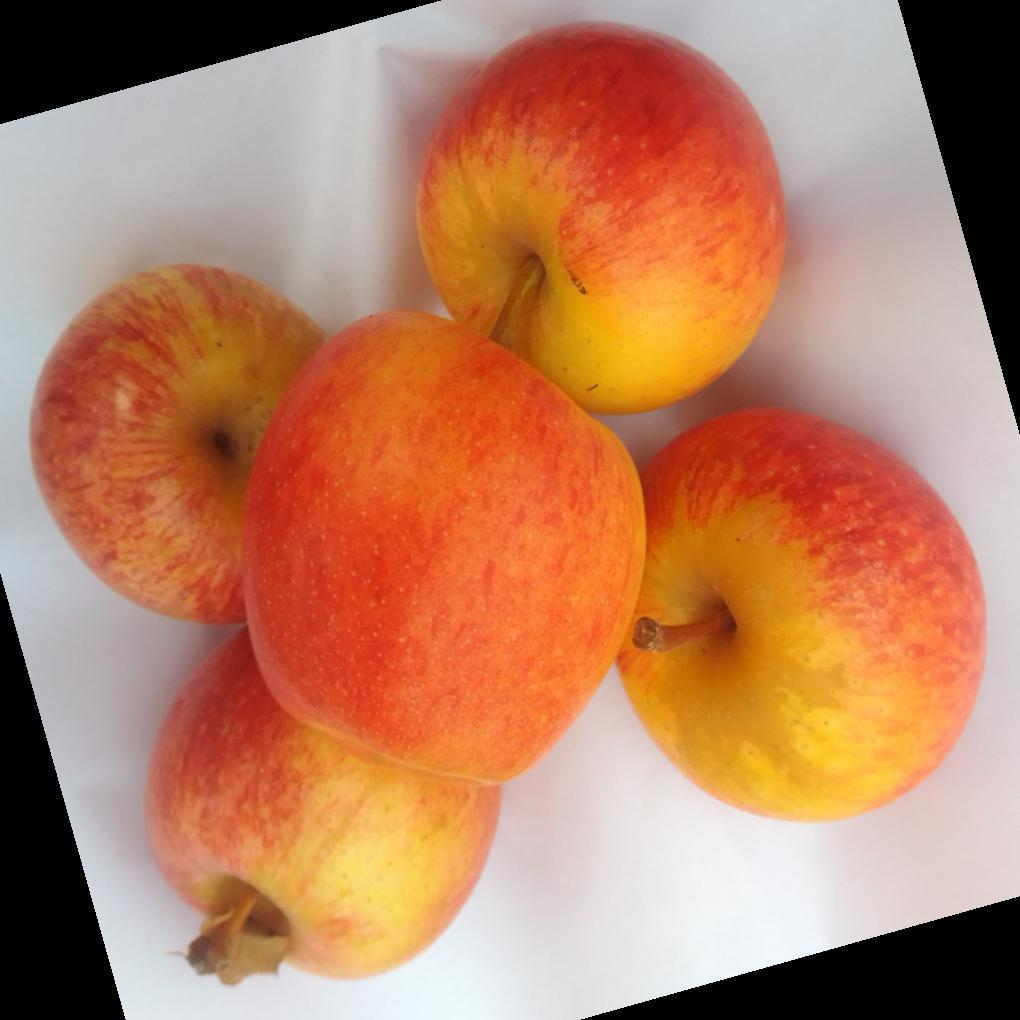FreshGuava: (30, 23, 986, 970)
